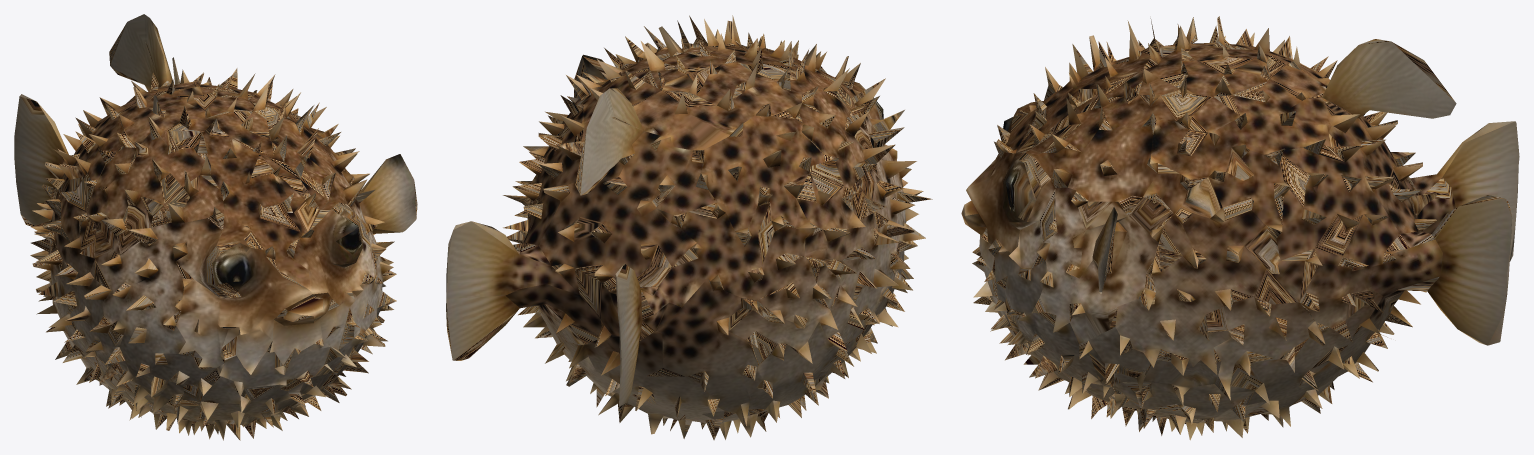
The model's file is balon.glb.
3 views of the same model, side by side, from view 1: azimuth 30°, elevation 25°; view 2: azimuth 150°, elevation 25°; view 3: azimuth 270°, elevation 25° (orthographic). The views are drawn at different scales.
Parts seen in each view (by area): view 1: world; view 2: world; view 3: world.
Boxes of the visible parts, <box> form: world: <box>14,14,417,440</box>; world: <box>446,15,932,440</box>; world: <box>961,16,1519,440</box>.
Size of the model in its own units: 0.7619 by 0.7748 by 1.
Materials: 1 (1 with a texture image).
